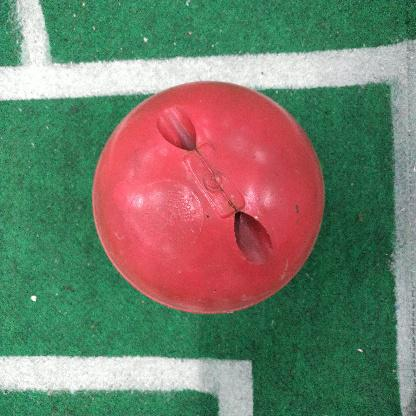red_buoy: (92, 80, 326, 316)
